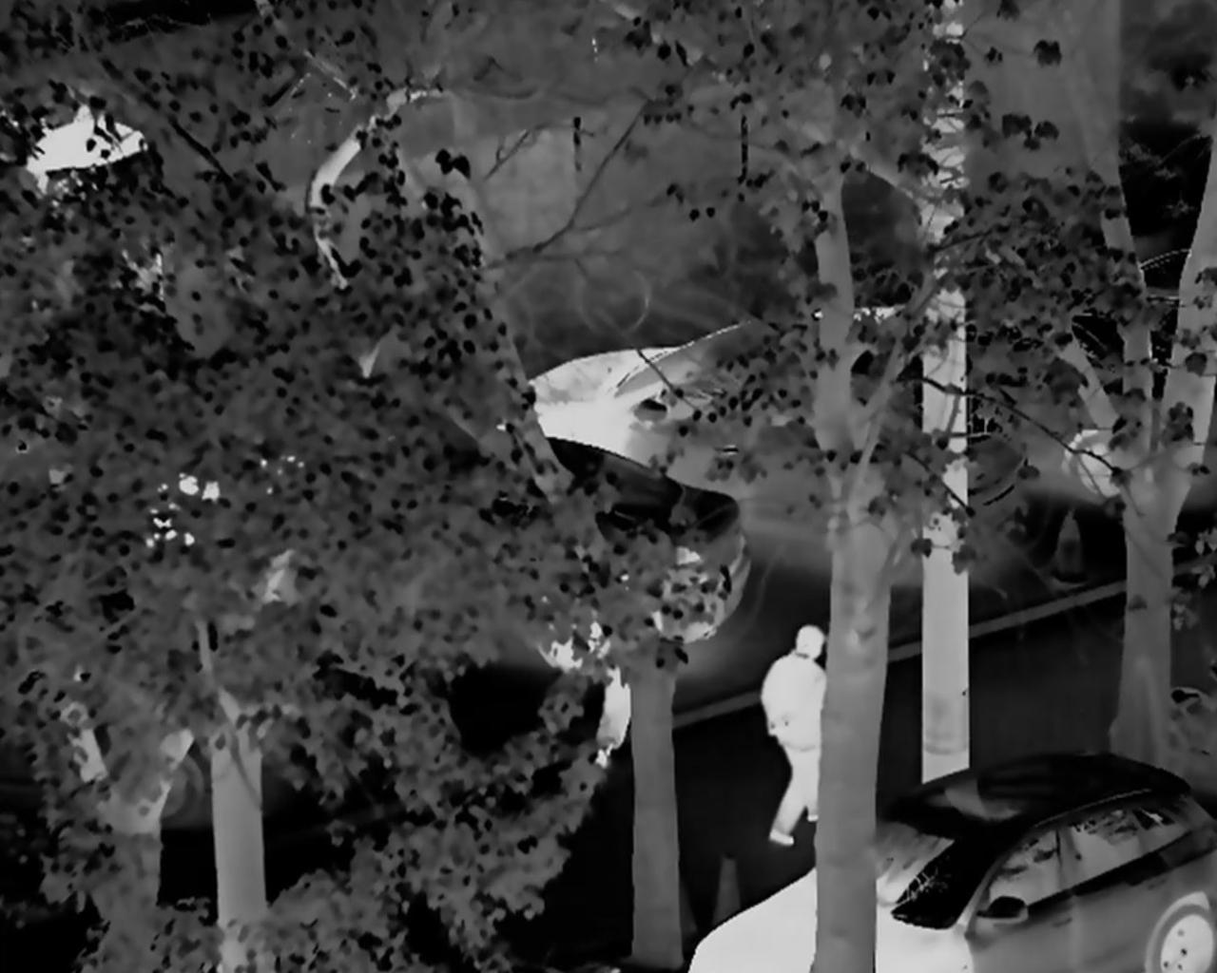person: (755, 616, 840, 839)
